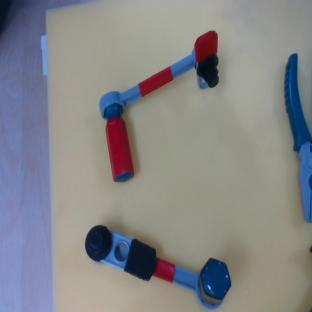non_pass: (77, 219, 237, 312)
pass: (67, 5, 242, 187)
